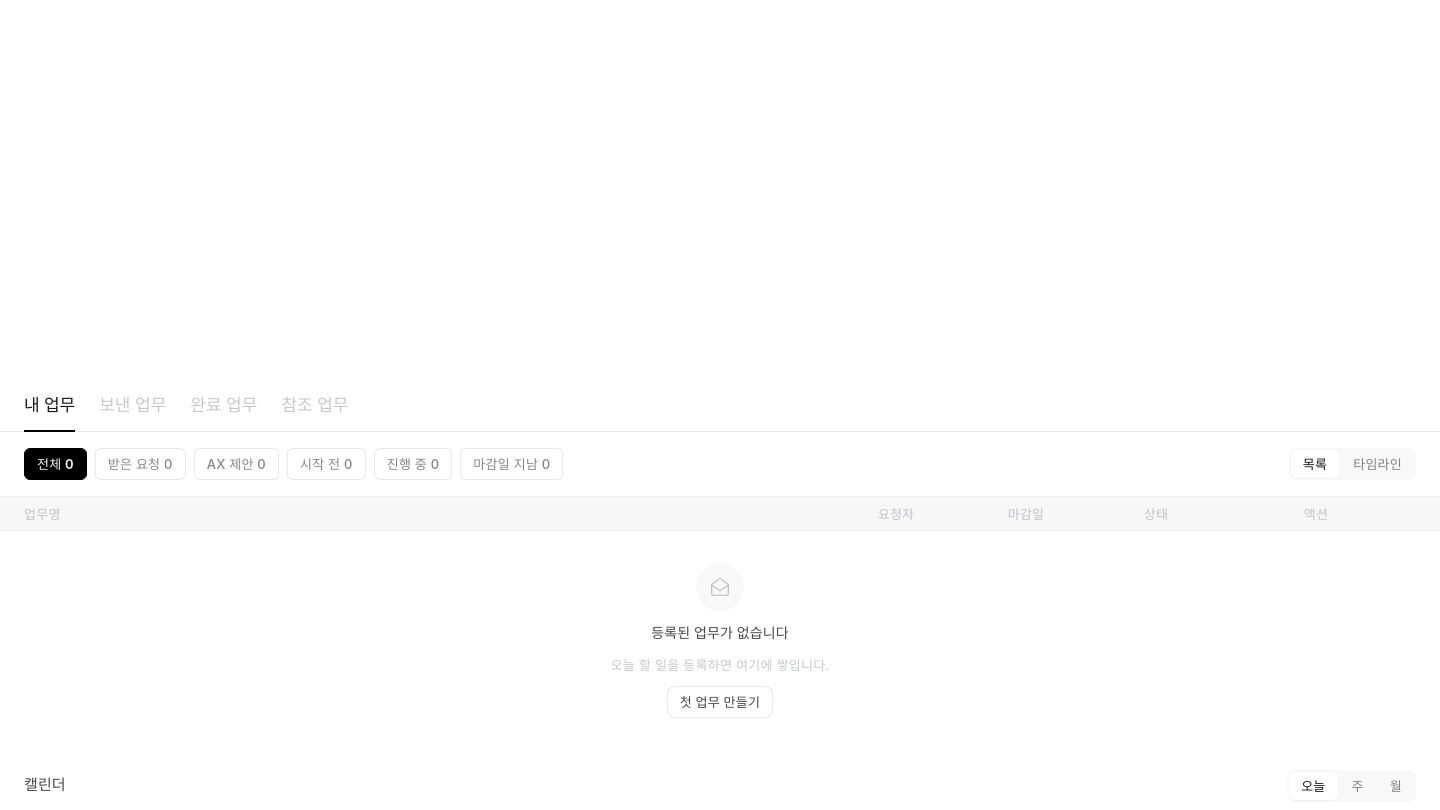
Test case: work relation information architecture › lets the requester reach the resubmit path for a negotiating request they own
The image size is (1440, 810).
(page scrolled)
What coordinates should you click on to do the following:
click the tab "보낸 업무"
I would click on:
 (133, 405)
Its box is [99, 379, 166, 431].
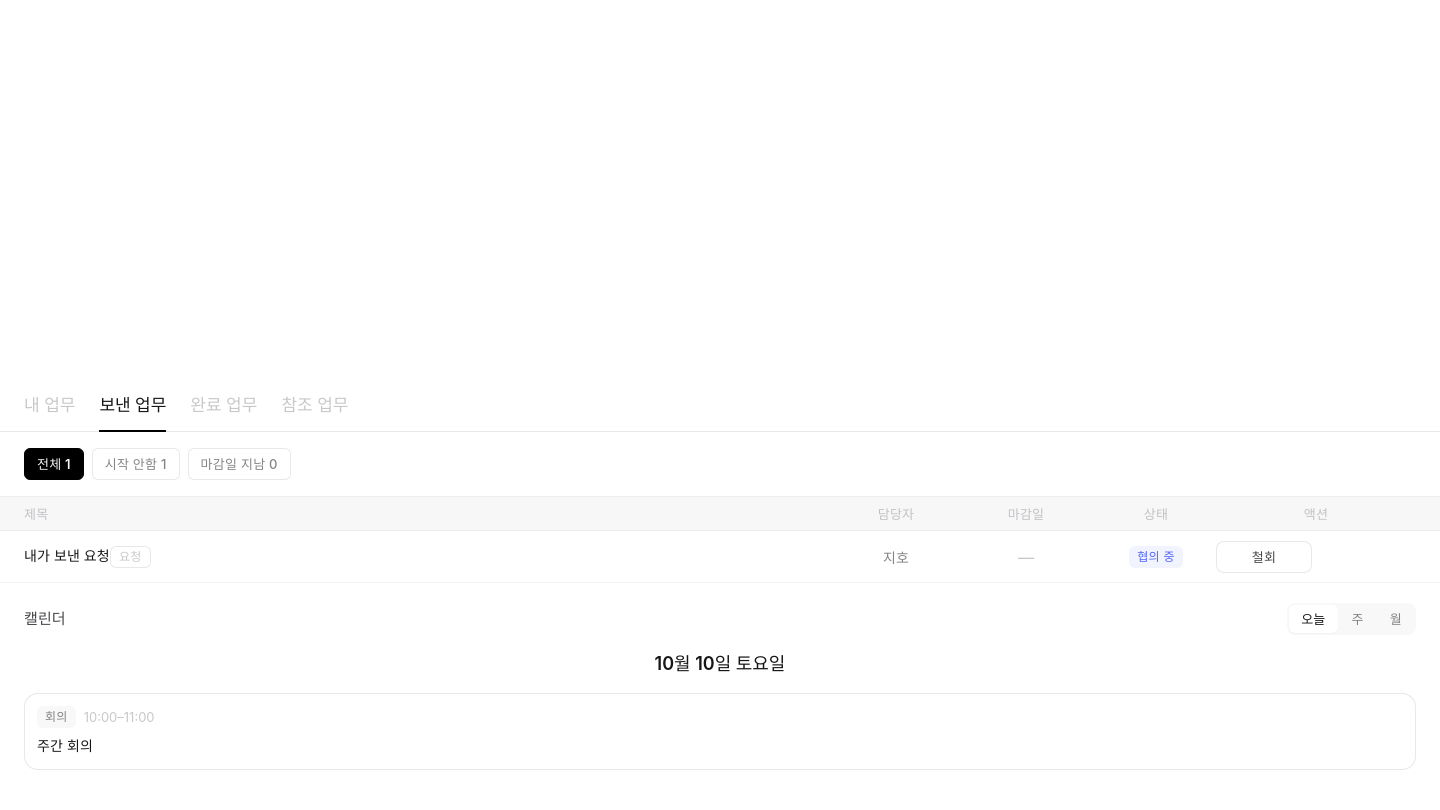
What coordinates should you click on to do the following:
click the text "내가 보낸 요청"
I would click on:
 (67, 556)
Its box is [24, 547, 110, 564].
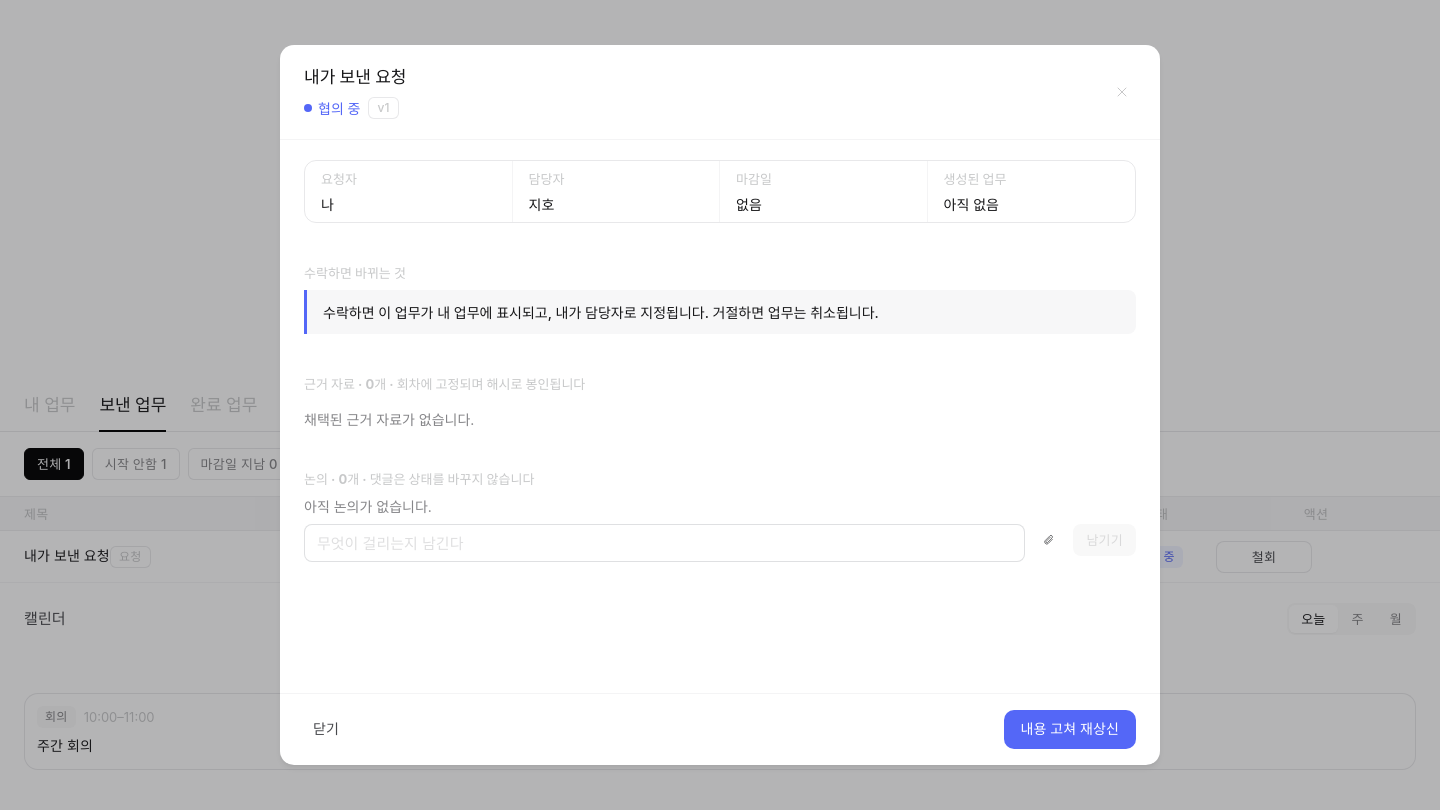
Check: the button "내용 고쳐 재상신" is shown
What coordinates should you click on to do the following:
click the button "내용 고쳐 재상신"
I would click on:
 (1070, 730)
Its box is [1004, 710, 1136, 749].
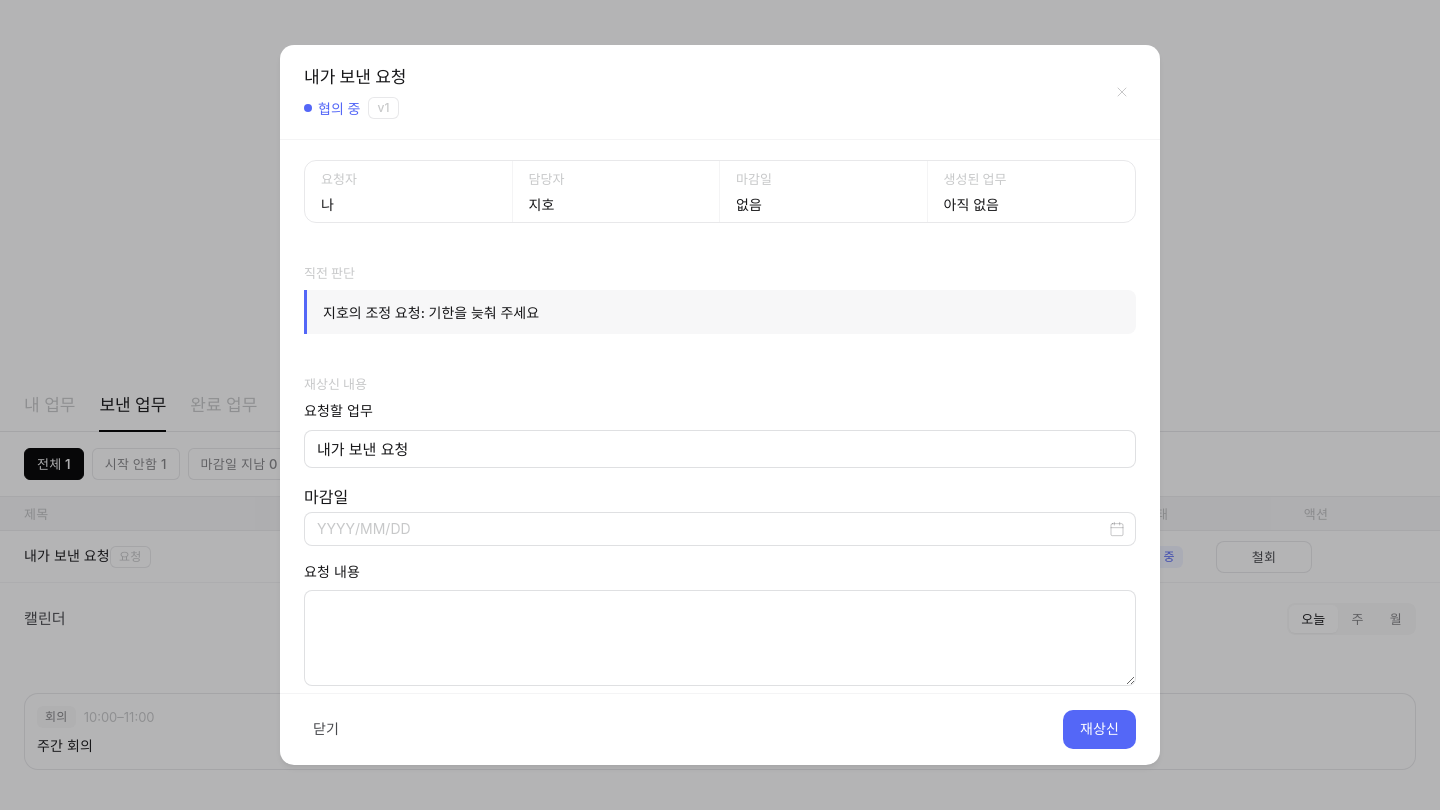
Check: the button "재상신" is shown, box [1063, 710, 1136, 749]
Check: the text "지호의 조정 요청: 기한을 늦춰 주세요" is shown, box [304, 290, 1136, 334]
